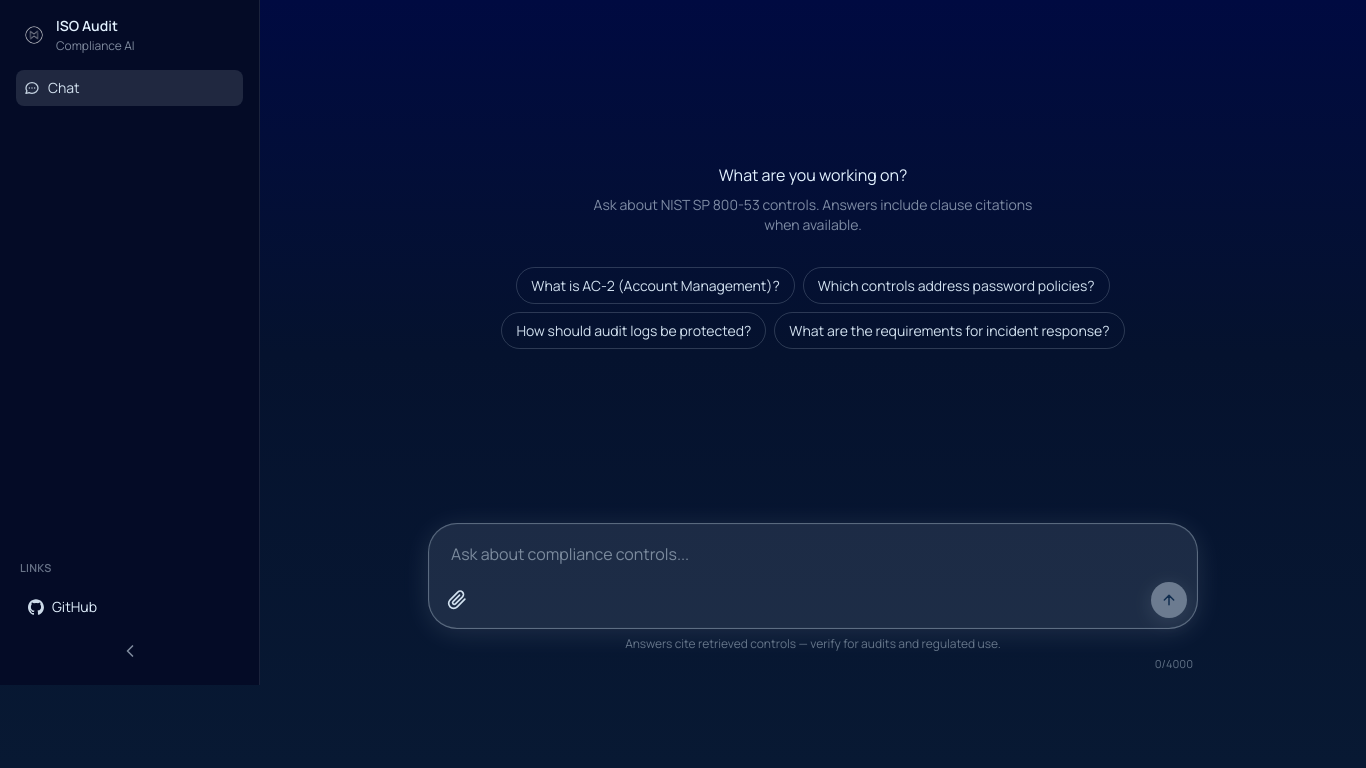
Test: Chat › shows loading state while waiting for API response
Step 1. Type "Test question" into the text box with placeholder "Ask about compliance controls..." → (813, 556), box [439,534,1187,578]
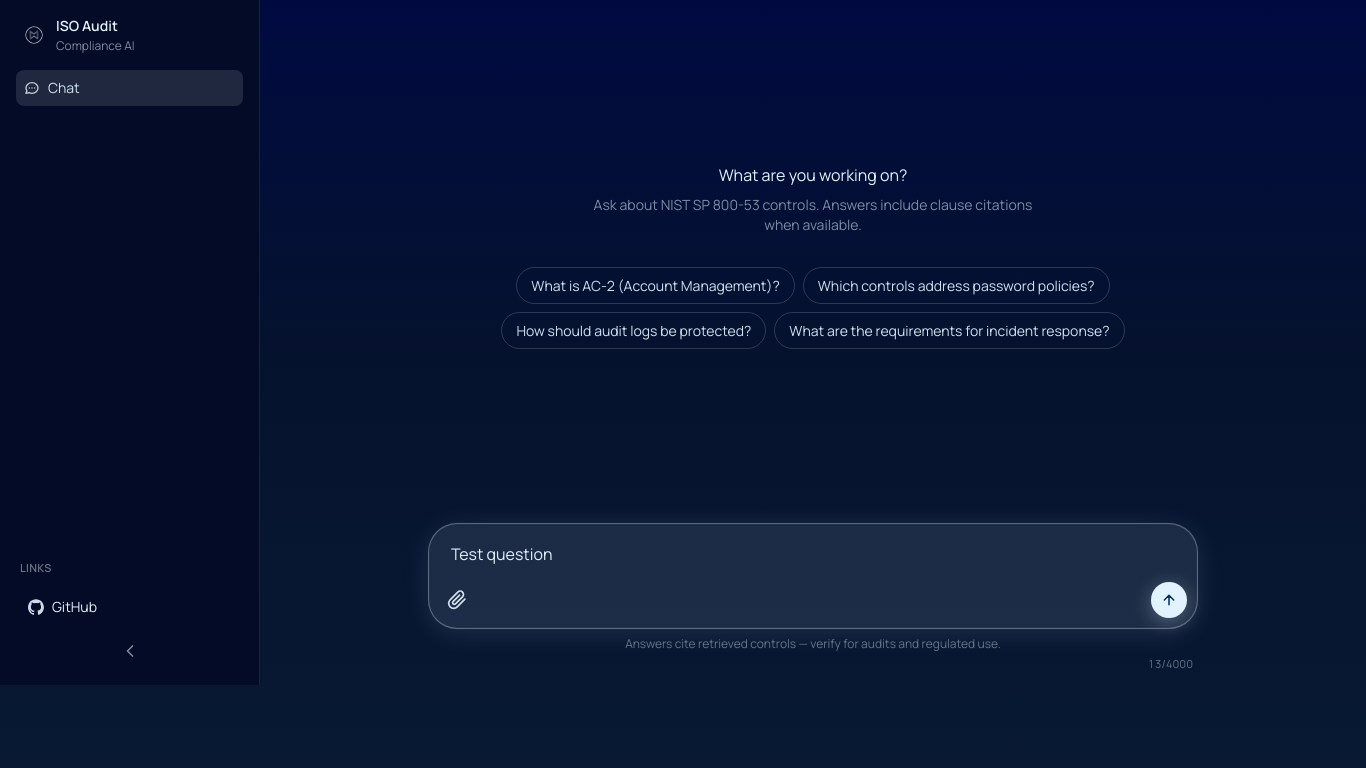
Step 2. Click the button named "Send" → click(1169, 600), box [1151,582,1187,618]
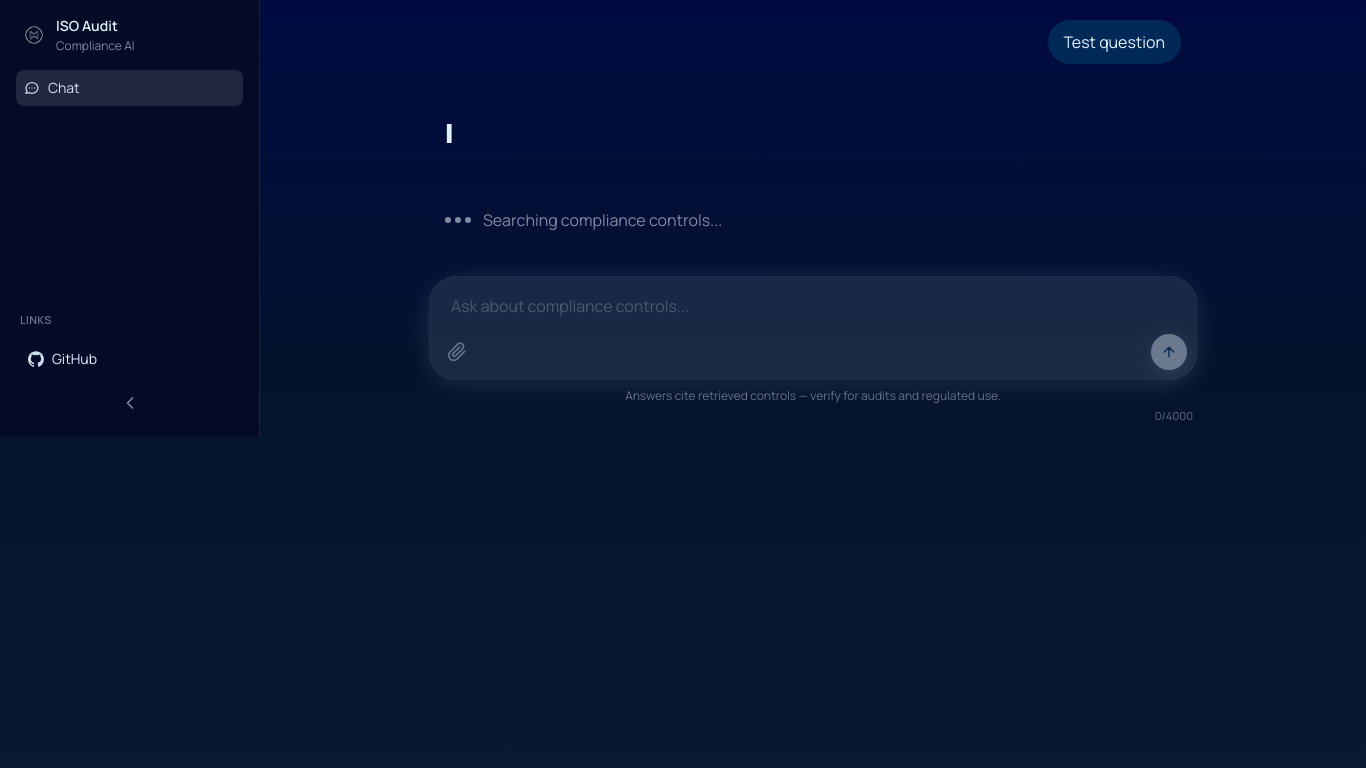
Expected: the button named "Send" is disabled, [1151,334,1187,370]
